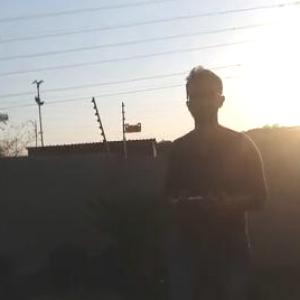follow: (157, 61, 271, 299)
